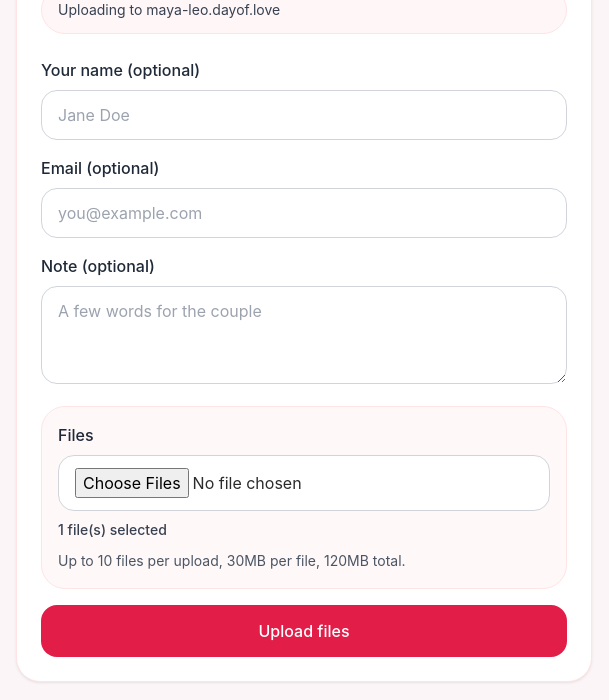
Scenario: PhotoUpload guest-safe copy › lets guests clear success state and start another upload with Upload more
Earlier steps of the test are not shown.
(page scrolled)
Click the button "Upload files".
click(304, 631)  # box [41, 605, 567, 657]
(page scrolled)
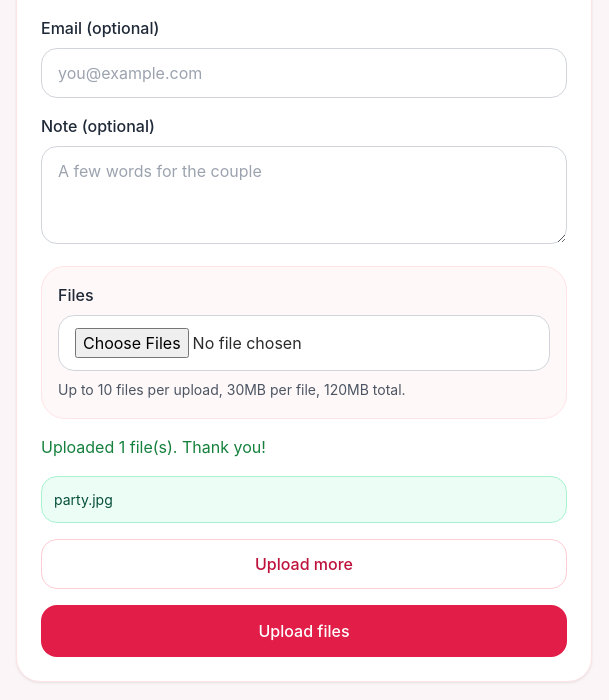
Expected: the text "Uploaded 1 file(s). Thank you!" is shown, [41, 437, 266, 457]
Click the button "Upload more".
click(304, 564)  # box [41, 539, 567, 589]
(page scrolled)
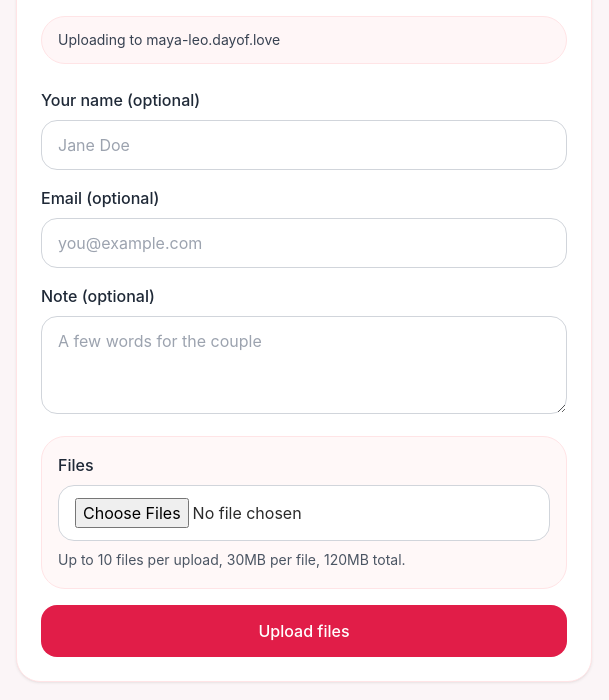
Expected: the text "Uploaded 1 file(s). Thank you!" is gone
Expected: the list item "party.jpg" is gone
Expected: the button "Upload more" is gone
